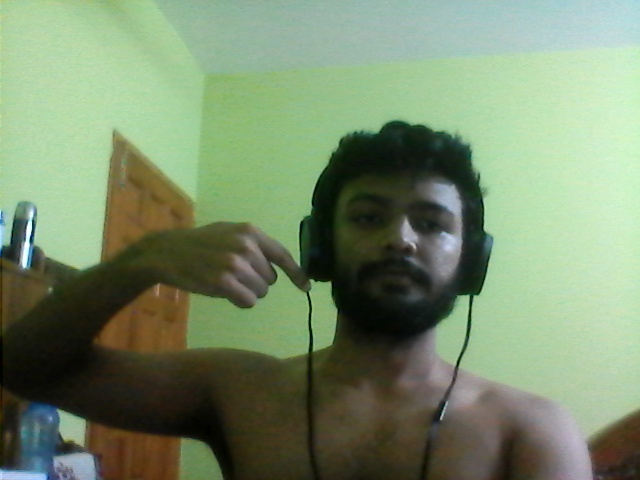I: (160, 187, 328, 361)
